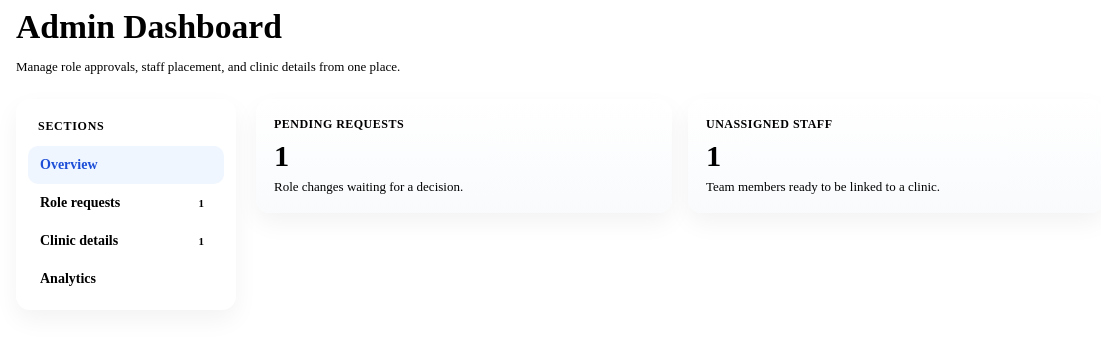
Test: AdminDashboard › approves a role request and removes it from the table
Click the button "Role requests 1" at (126, 203), box [28,184,224,222]
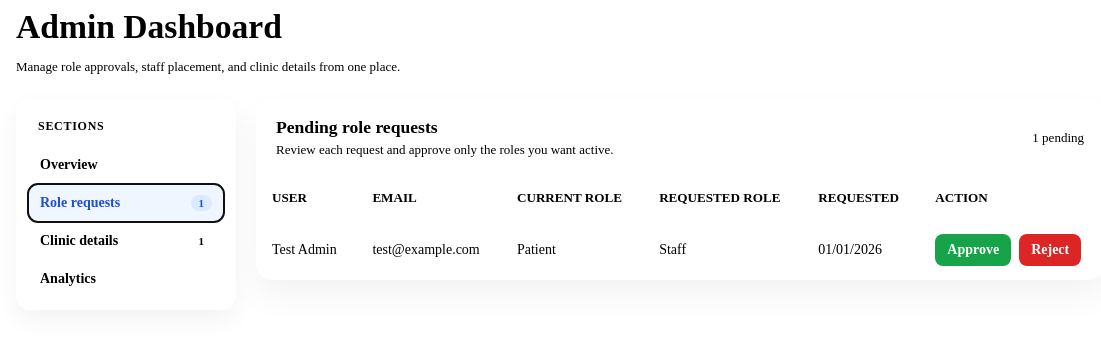
Click the button "Approve" at (973, 250), box [935,234,1011,266]
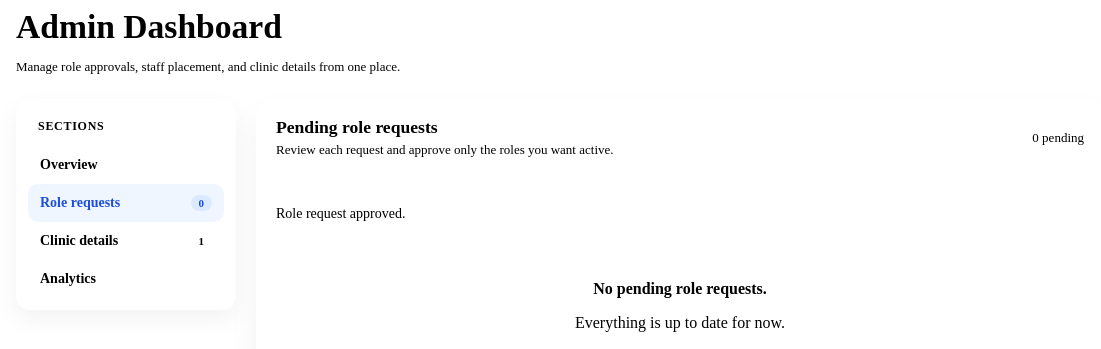
Result: the text "Role request approved." is shown at [276,206,406,221]
Result: the text "Test Admin" is gone
